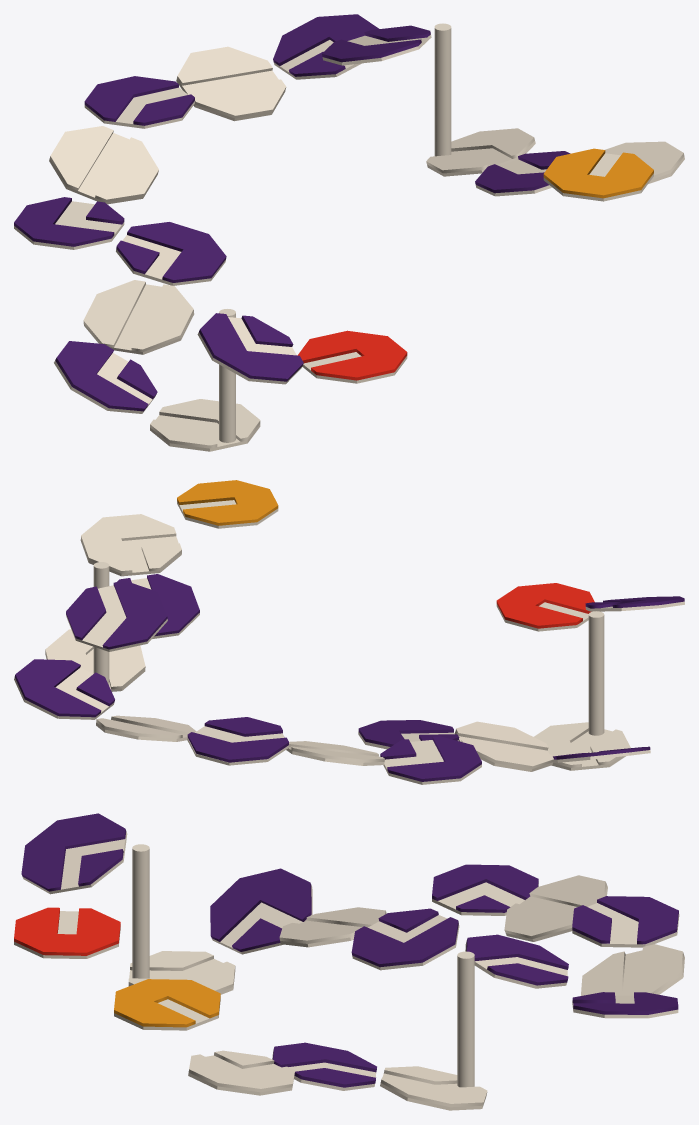
File: Lvl_006.FBX
3 views of the same model, one above another, from view 1: azimuth 30°, elevation 25°; view 2: azimuth 150°, elevation 25°; view 3: azimuth 270°, elevation 25° (orthographic). The views are drawn at different scales.
Parts seen in each view (by area): view 1: NGon068; view 2: NGon068; view 3: NGon068.
Part boxes in pixels (left/top/right/bottom): NGon068: left=14, top=14, right=684, bottom=451; NGon068: left=14, top=480, right=684, bottom=784; NGon068: left=14, top=813, right=684, bottom=1110.
Bounding box in the file's own units: 101 × 33.1 × 94.53.
